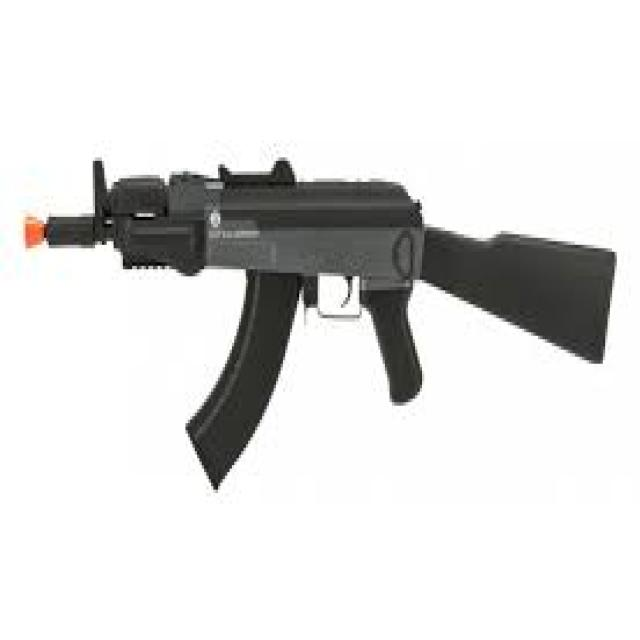rifle: (22, 155, 619, 510)
